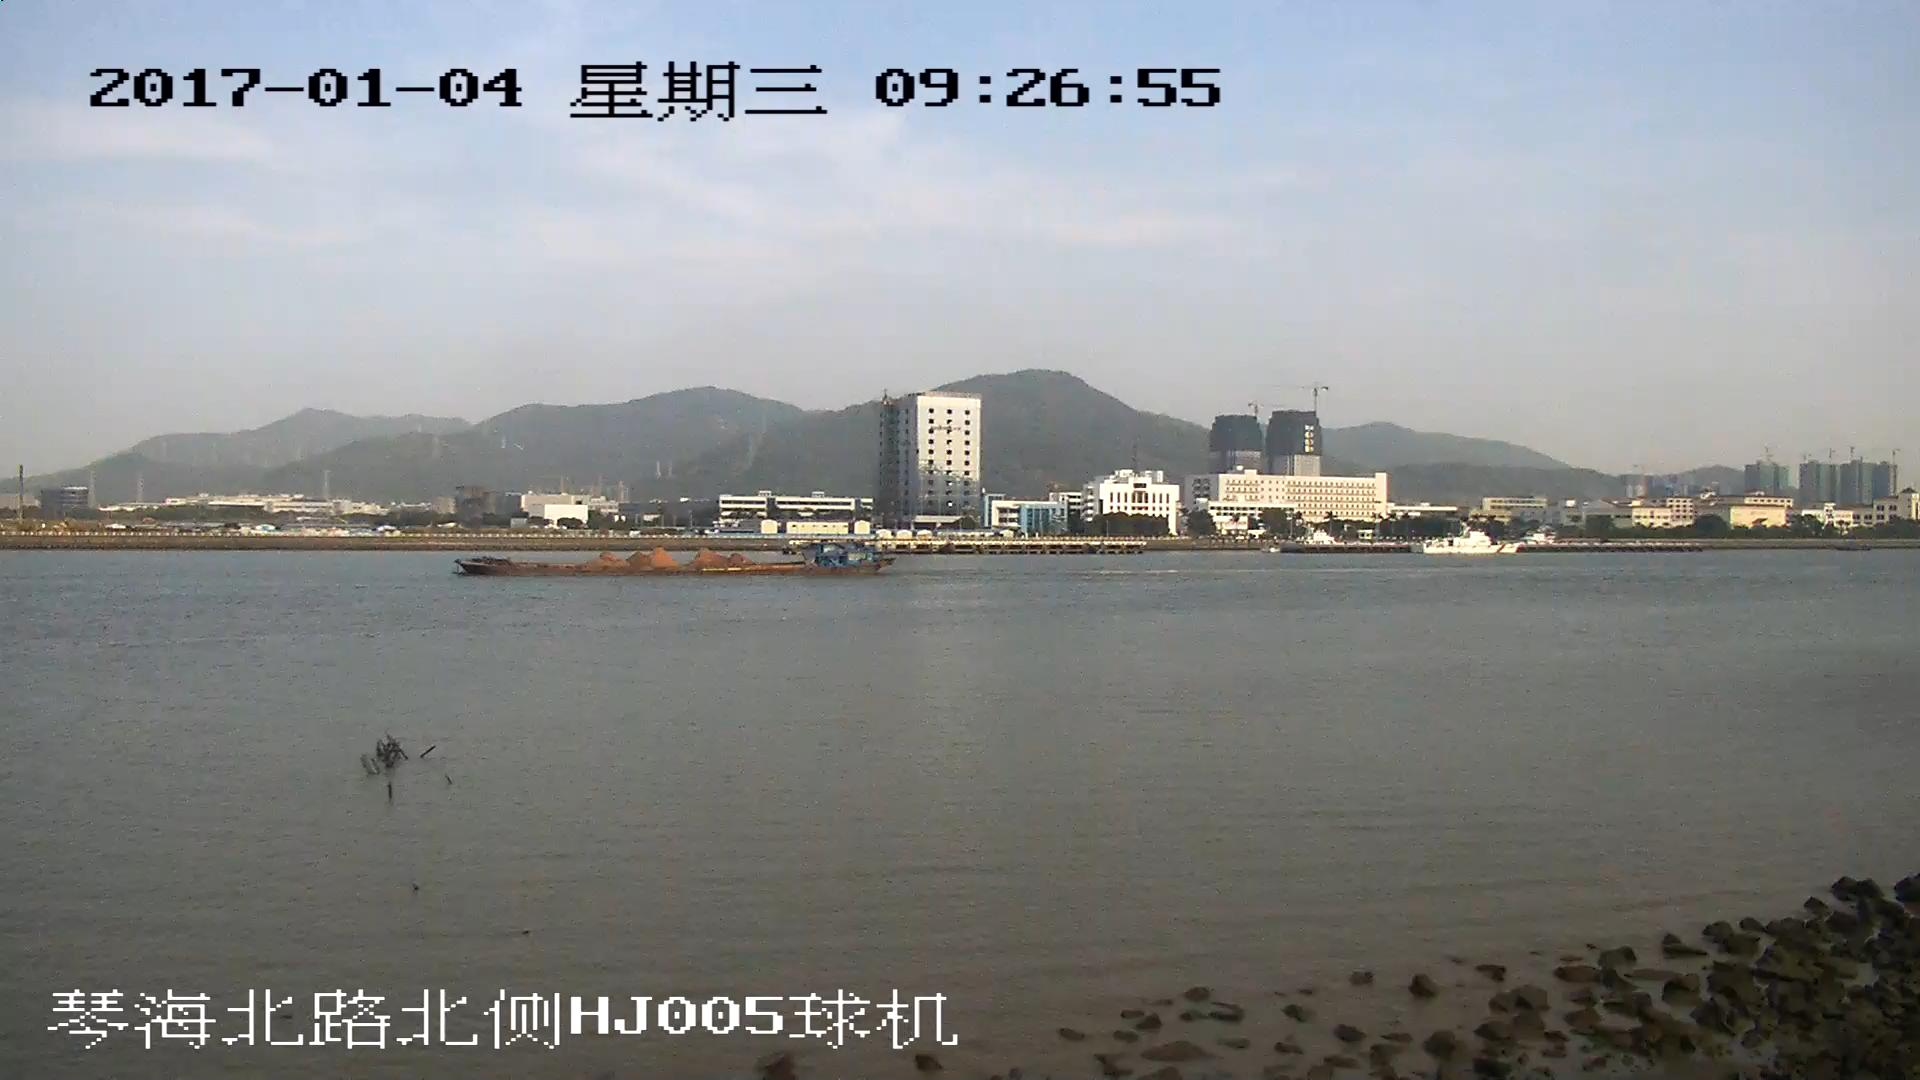ore carrier: (457, 537, 898, 577)
